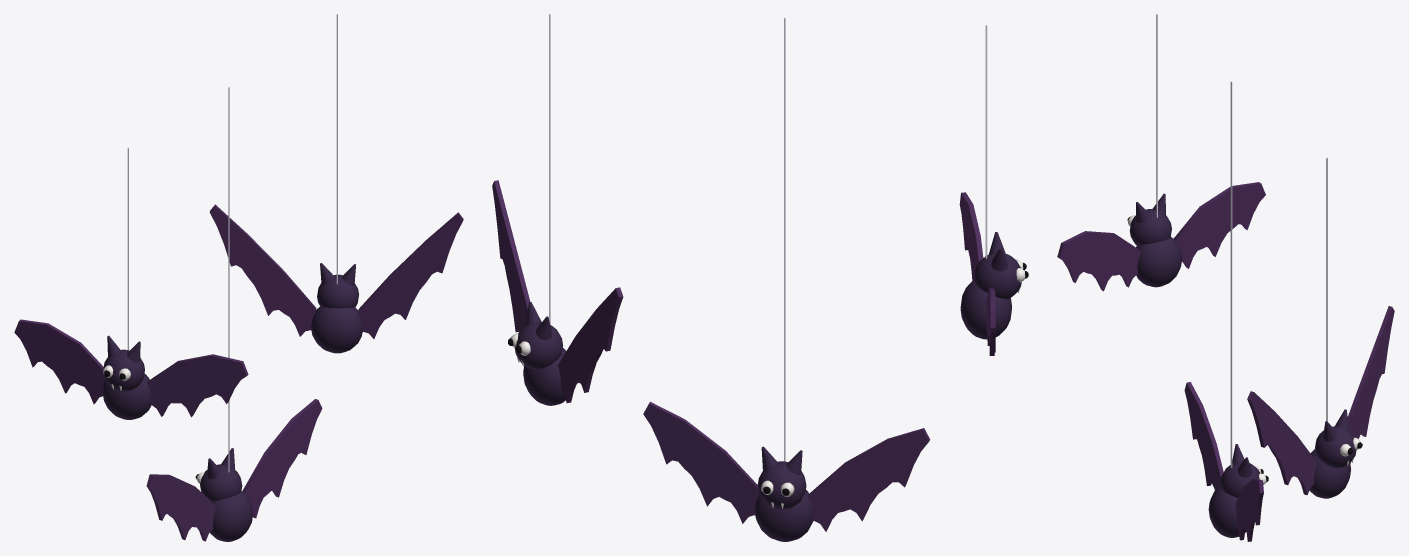
The model's file is manor_bats.glb.
3 views of the same model, side by side, from view 1: azimuth 30°, elevation 25°; view 2: azimuth 150°, elevation 25°; view 3: azimuth 270°, elevation 25° (orthographic). The views are drawn at different scales.
Parts seen in each view (by area): view 1: Bats; view 2: Bats; view 3: Bats.
Part boxes in pixels (x1,y1,x2,y2): Bats: [14, 14, 463, 541]; Bats: [492, 14, 1028, 541]; Bats: [1057, 14, 1394, 541].
Size of the model in its own units: 0.965 by 0.9425 by 0.6348.
5 materials, 1 textured.
